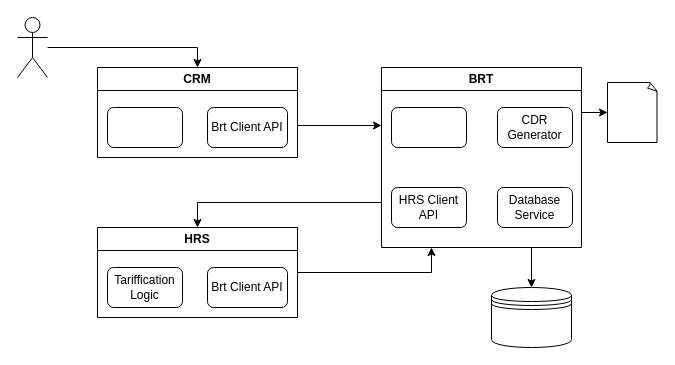
This 675x365 diagram has some shape labels left out. The shapes that lost their labels are listed below. From the top down, each one's centre as x and y in pixels, then its label:
point 32,47: User
point 144,127: Auth Logic
point 428,127: Abonent Logic
point 632,112: CDR files
point 531,317: PostgreSQL
